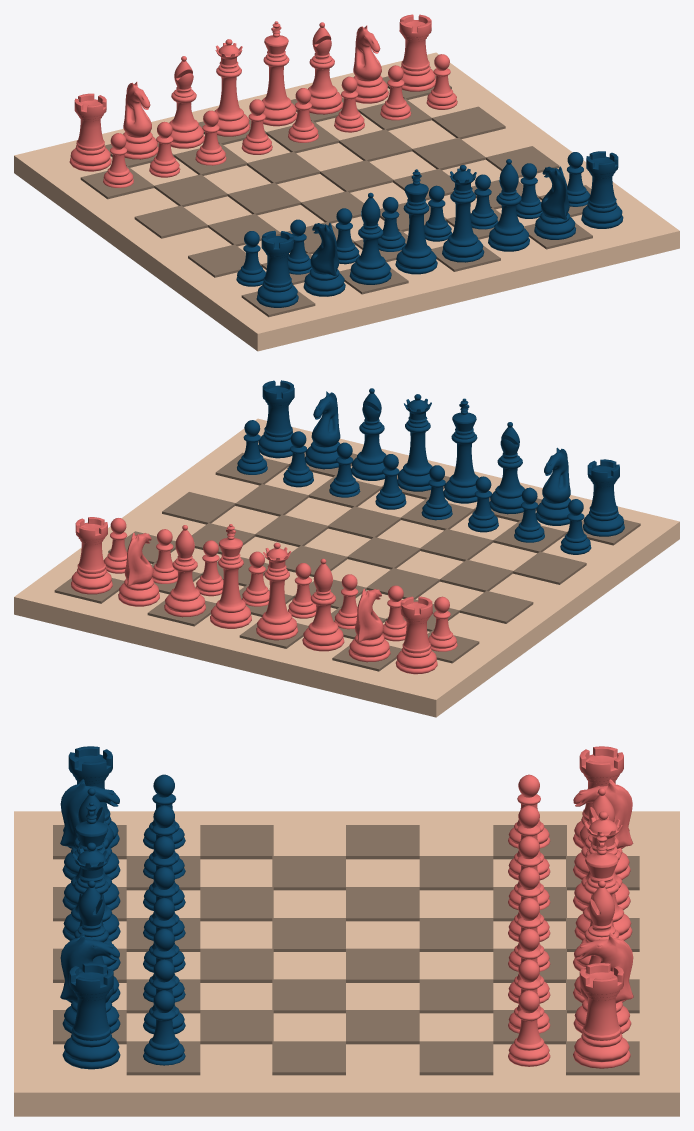
Rendered from chess.glb.
The picture shows the model from 3 angles, top to bottom: view 1: azimuth 30°, elevation 25°; view 2: azimuth 150°, elevation 25°; view 3: azimuth 270°, elevation 25°; orthographic projection. The views are drawn at different scales.
Visible parts, largest first — view 1: Cube, Cube.004, BlackKing, BlackQueen, WhiteRook2, BlackRook, BlackRook2, WhiteKing, WhiteQueen, WhiteRook, BlackBishop, BlackBishop2 (+22 smaller); view 2: Cube, Cube.004, WhiteKing, WhiteQueen, WhiteRook2, WhiteRook, BlackRook2, BlackKing, BlackQueen, BlackRook, WhiteBishop2, WhiteBishop (+22 smaller); view 3: Cube, Cube.004, BlackRook, WhiteRook, WhiteHorse, BlackHorse, BlackHorse2, WhiteHorse2, WhitePawn1, BlackPawn1, BlackKing, WhiteQueen (+22 smaller).
Part boxes in pixels (x1,y1,x2,y2): Cube: [14, 52, 679, 351]; Cube.004: [80, 75, 592, 317]; BlackKing: [395, 169, 437, 274]; BlackQueen: [442, 165, 484, 262]; WhiteRook2: [69, 93, 111, 171]; BlackRook: [581, 151, 623, 228]; BlackRook2: [256, 230, 298, 307]; WhiteKing: [262, 21, 297, 126]; WhiteQueen: [214, 39, 249, 136]; WhiteRook: [399, 14, 435, 91]; BlackBishop: [488, 159, 529, 251]; BlackBishop2: [349, 192, 391, 284]; Cube: [14, 418, 679, 717]; Cube.004: [54, 452, 640, 671]; WhiteKing: [210, 524, 251, 628]; WhiteQueen: [256, 542, 298, 640]; WhiteRook2: [395, 596, 437, 674]; WhiteRook: [71, 517, 112, 594]; BlackRook2: [583, 459, 624, 536]; BlackKing: [443, 398, 478, 503]; BlackQueen: [397, 394, 432, 491]; BlackRook: [258, 380, 294, 458]; WhiteBishop2: [302, 558, 344, 651]; WhiteBishop: [164, 525, 205, 617]; Cube: [14, 811, 679, 1116]; Cube.004: [53, 825, 639, 1075]; BlackRook: [62, 963, 120, 1069]; WhiteRook: [573, 963, 630, 1068]; WhiteHorse: [573, 932, 633, 1033]; BlackHorse: [60, 933, 120, 1033]; BlackHorse2: [60, 779, 120, 880]; WhiteHorse2: [573, 779, 633, 879]; WhitePawn1: [508, 990, 550, 1066]; BlackPawn1: [143, 990, 185, 1065]; BlackKing: [62, 802, 120, 941]; WhiteQueen: [574, 811, 632, 940].
Bounding box in the file's own units: 50.2 × 13.12 × 50.2.
